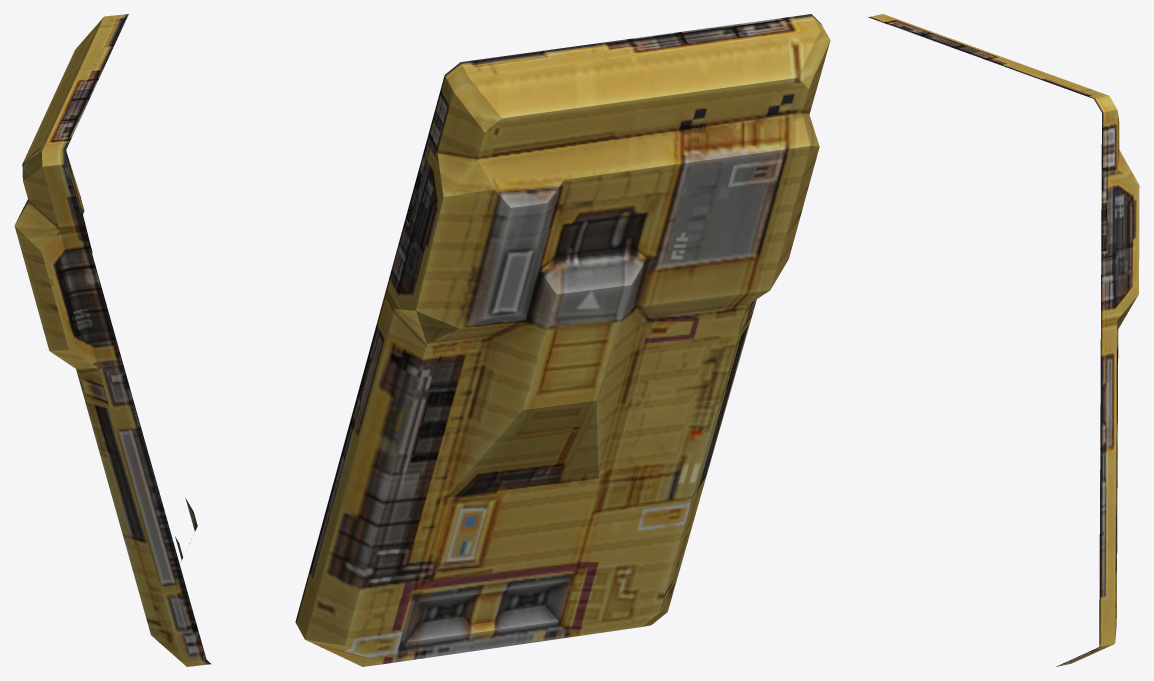
The model's file is hgn_flagship_explorer_03_hangar_01_r.glb.
3 renders of one model, left to right at view 1: azimuth 30°, elevation 25°; view 2: azimuth 150°, elevation 25°; view 3: azimuth 270°, elevation 25°, orthographic. The views are drawn at different scales.
Visible parts, largest first — view 1: hgn_flagship_explorer_03_hangar_01_r; view 2: hgn_flagship_explorer_03_hangar_01_r; view 3: hgn_flagship_explorer_03_hangar_01_r.
Part boxes in pixels (<box>): hgn_flagship_explorer_03_hangar_01_r: <box>14,14,211,666</box>; hgn_flagship_explorer_03_hangar_01_r: <box>295,14,830,666</box>; hgn_flagship_explorer_03_hangar_01_r: <box>868,14,1139,666</box>.
Size of the model in its own units: 1.08 by 1.64 by 0.7989.
Materials: 1 (1 with a texture image).
